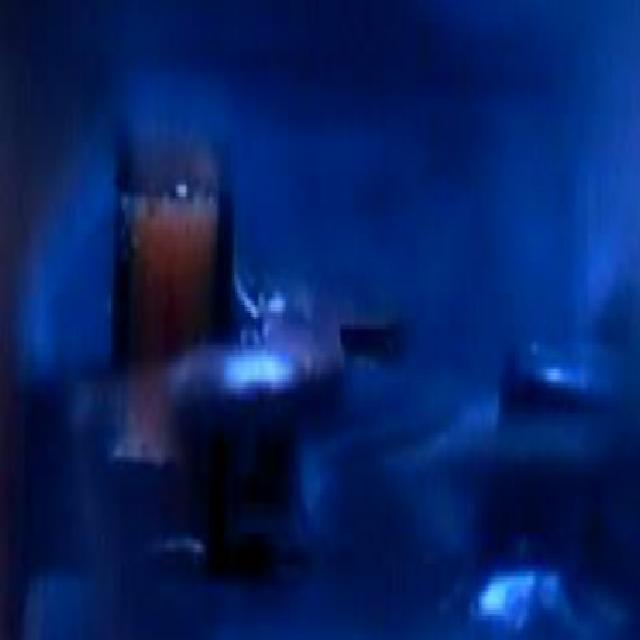No Good: (213, 204, 318, 363)
